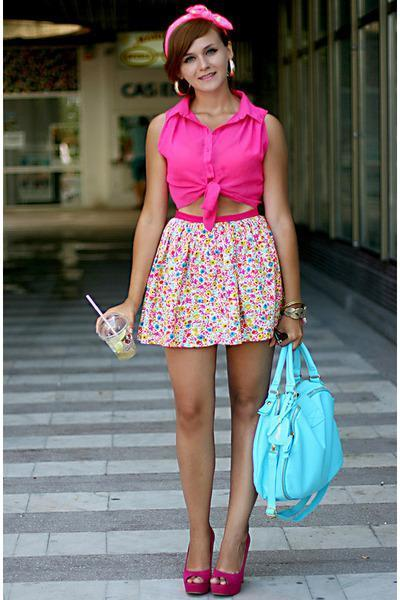bag: (253, 342, 344, 521)
shirt: (158, 94, 268, 225)
shoe: (184, 564, 245, 599)
skirt: (131, 215, 297, 346)
